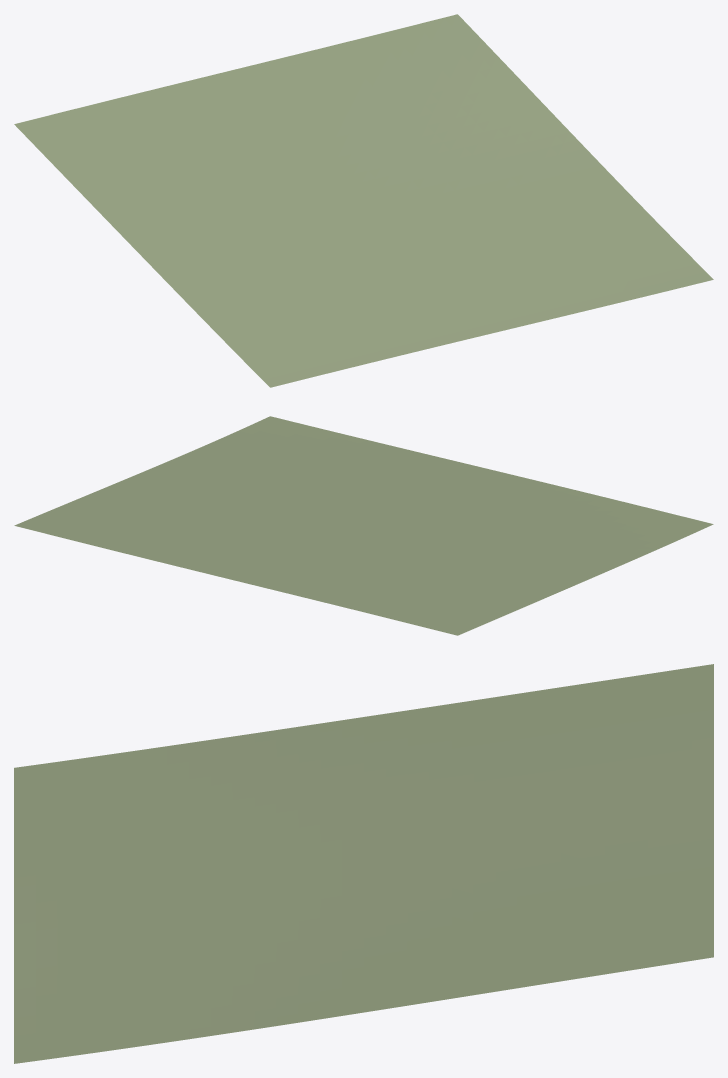
Rendered from desert-31-11.glb.
3 renders of one model, top to bottom at view 1: azimuth 30°, elevation 25°; view 2: azimuth 150°, elevation 25°; view 3: azimuth 270°, elevation 25°, orthographic. The views are drawn at different scales.
Parts seen in each view (by area): view 1: desert-31-11; view 2: desert-31-11; view 3: desert-31-11.
Boxes of the visible parts, x1,y1,x2,y2 form: desert-31-11: (14, 14, 713, 387); desert-31-11: (14, 416, 713, 635); desert-31-11: (14, 664, 713, 1063).
Bounding box in the file's own units: 512 × 86.11 × 512.
